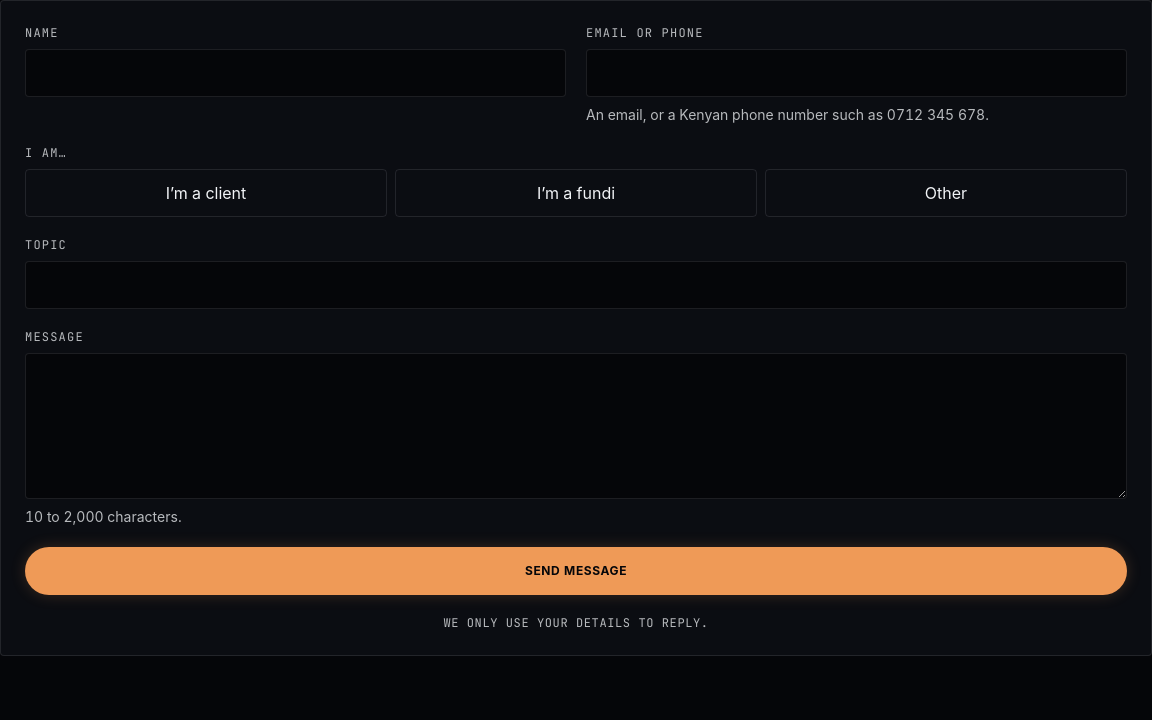
Test: contact form (Convex) › offers the email alternative when sending fails
Step 1. Click the radio button labelled "I’m a fundi" → click(576, 193), box x1=395 y1=169 x2=757 y2=217
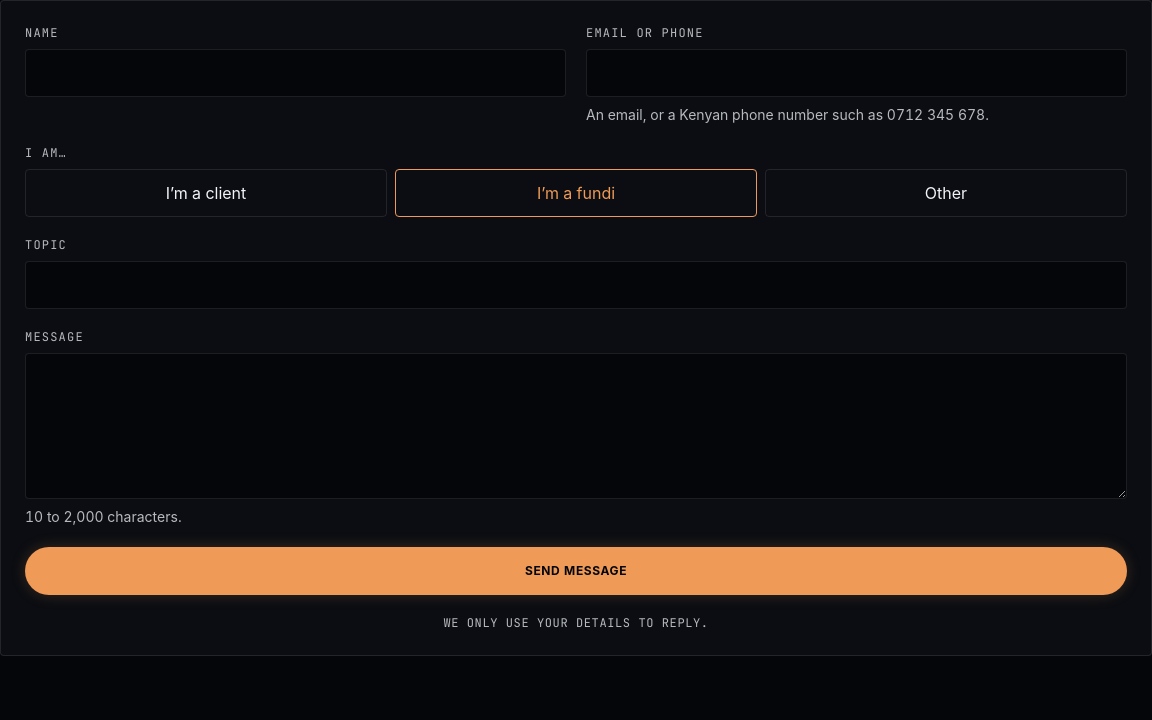
Step 2. Type "  Wanjiru Kamau " into the field labelled "Name" → (296, 73), box x1=25 y1=49 x2=566 y2=97
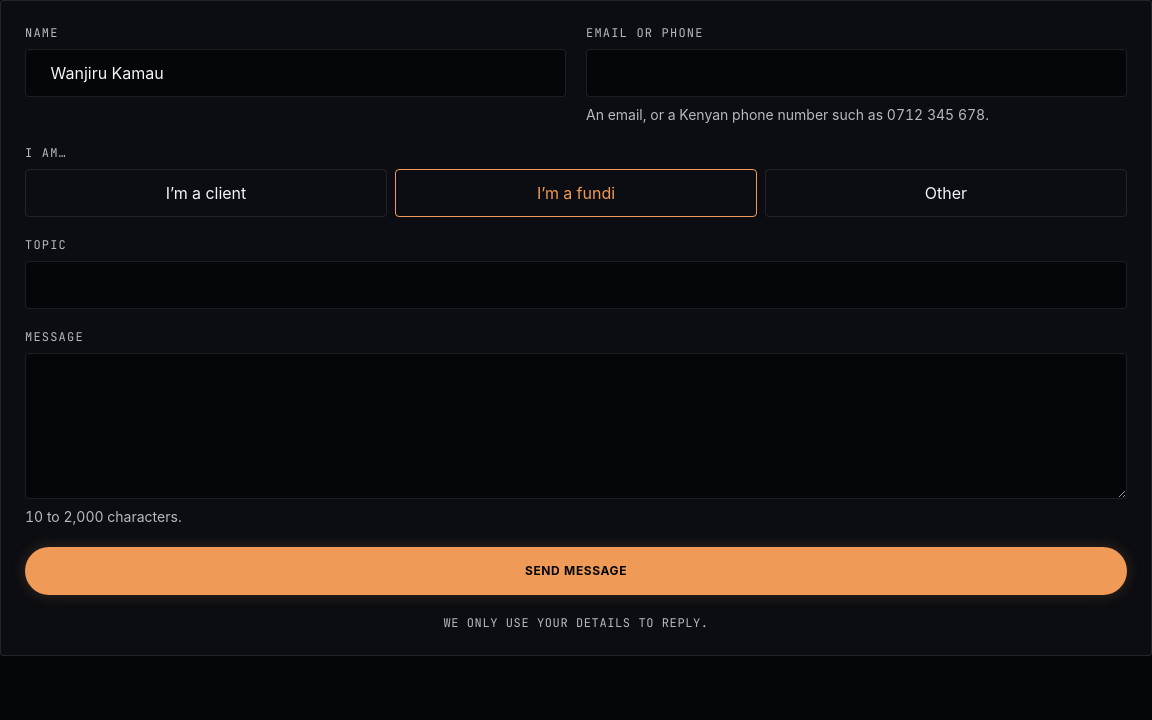
Step 3. Type "0712 345 678" into the field labelled "Email or phone" → (856, 73), box x1=586 y1=49 x2=1127 y2=97
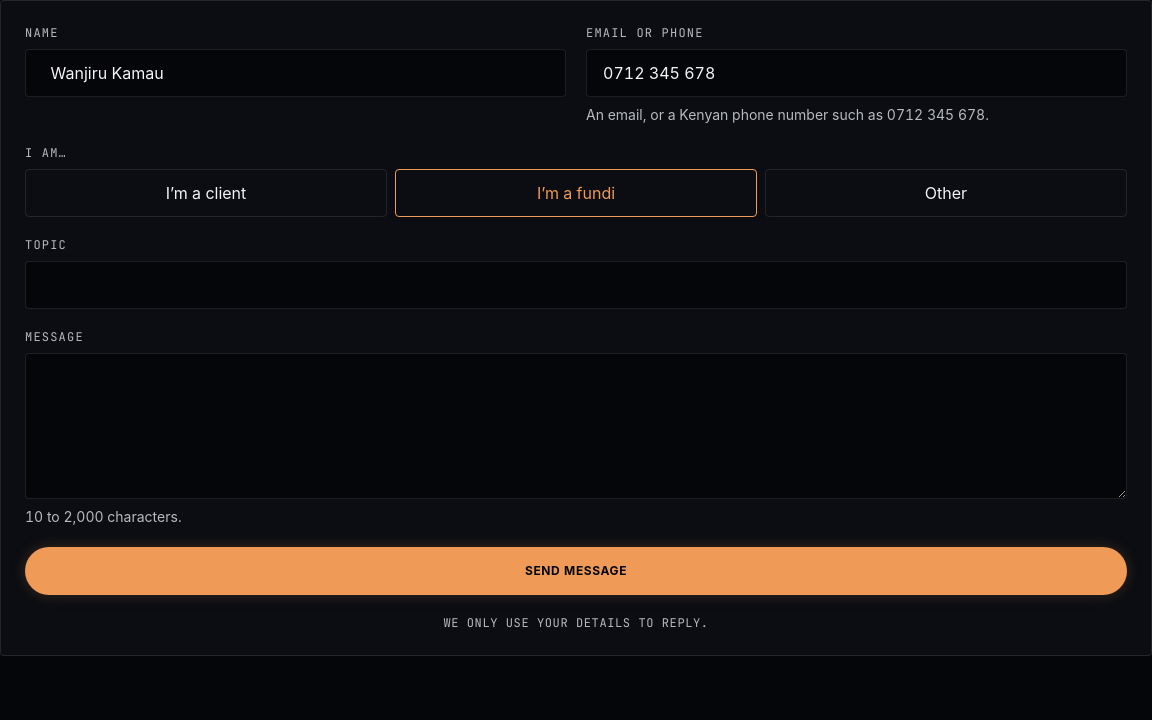
Step 4. Type "My badge" into the field labelled "Topic" → (576, 285), box x1=25 y1=261 x2=1127 y2=309
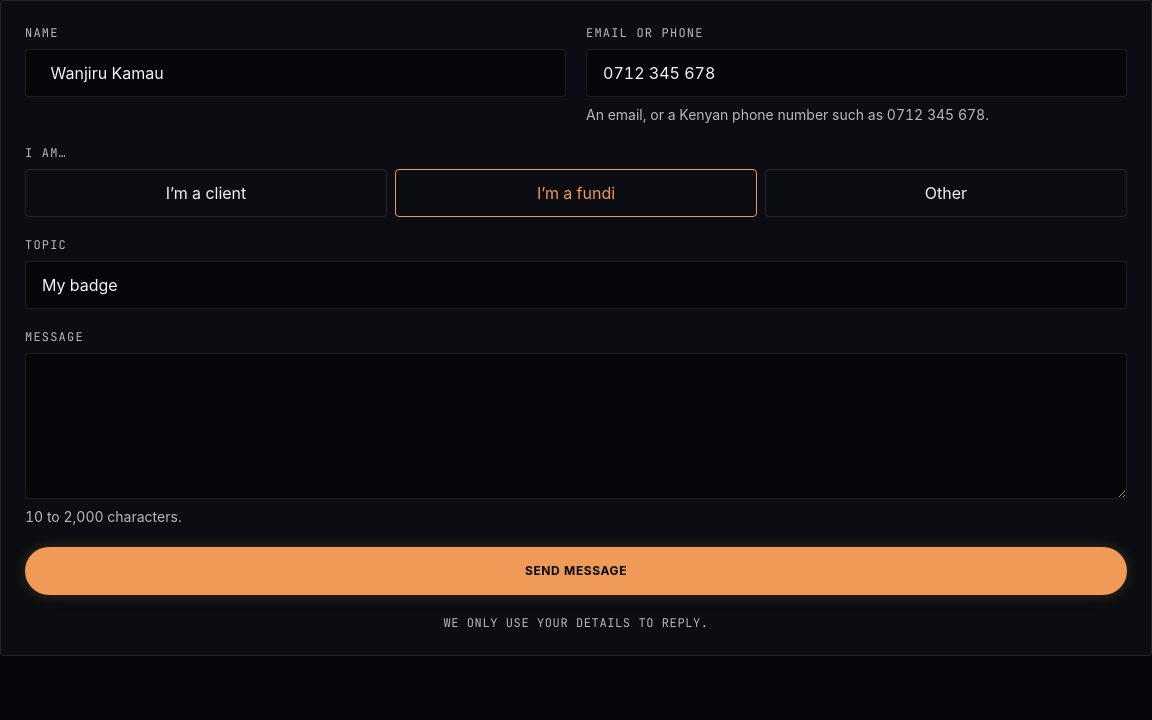
Step 5. Type "How long does a review take after I upload?" into the text box labelled "Message" → (576, 426), box x1=25 y1=353 x2=1127 y2=499
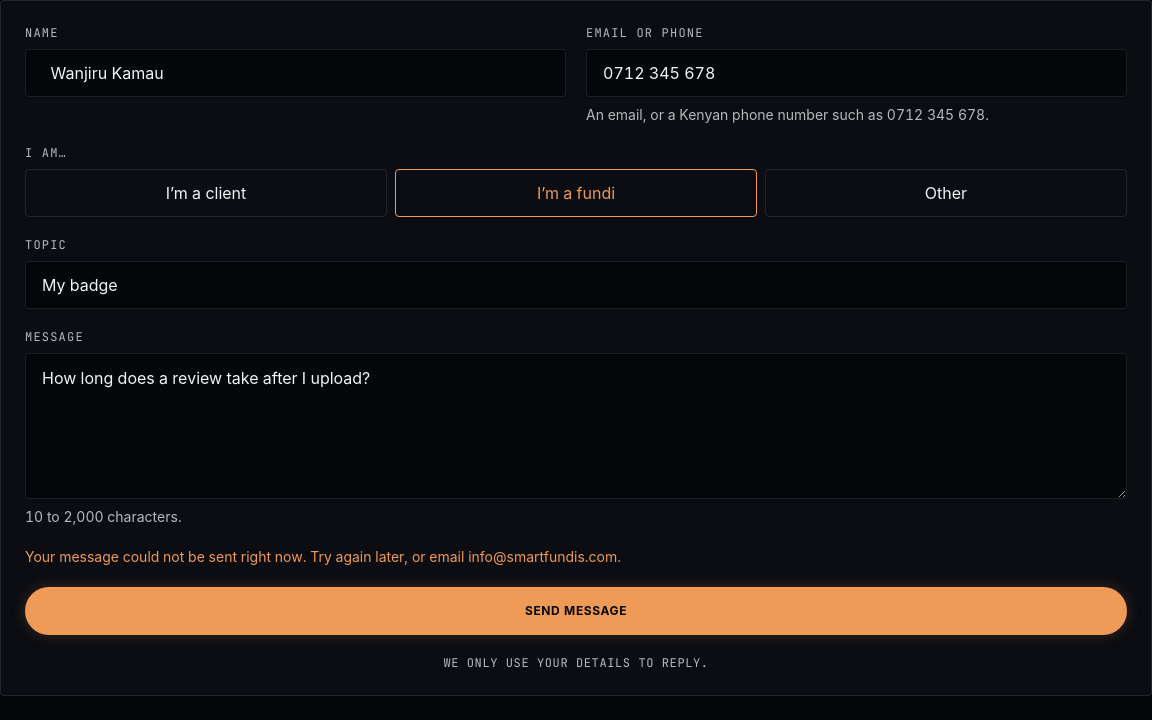
Result: the message shows "Your message could not be sent right now. Try again later, or email info@smartfundis.com." at x1=25 y1=548 x2=621 y2=565
